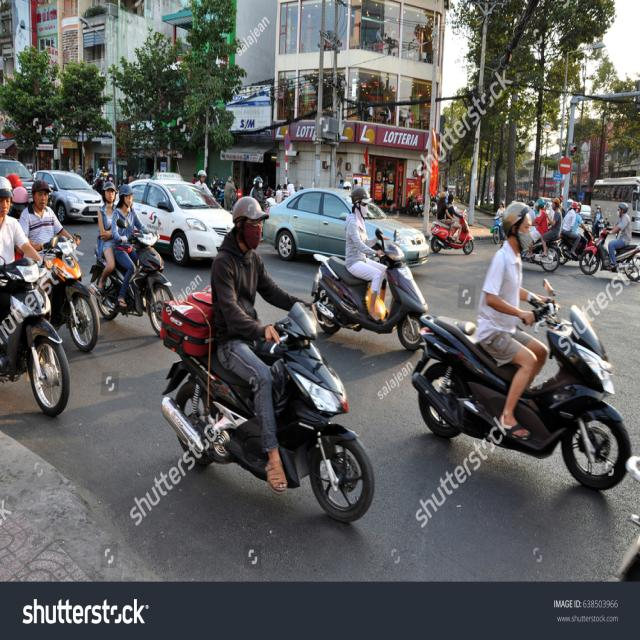Helmet: (497, 194, 547, 262), (226, 196, 273, 243), (348, 182, 372, 214)
Motorbike: (160, 292, 370, 534), (413, 273, 635, 497), (580, 223, 640, 281)
